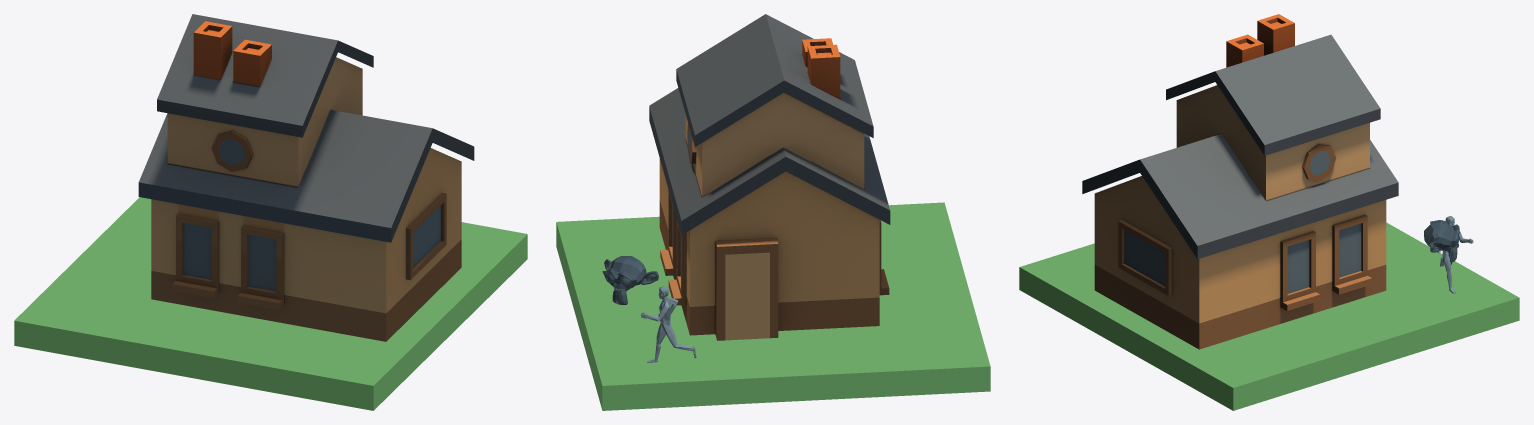
The picture shows the model from 3 angles, left to right: view 1: azimuth 30°, elevation 25°; view 2: azimuth 150°, elevation 25°; view 3: azimuth 270°, elevation 25°; orthographic projection. The views are drawn at different scales.
Visible parts, largest first — view 1: group1502195547.002; view 2: group1502195547.002, Suzanne; view 3: group1502195547.002, Suzanne.
Part boxes in pixels (left/top/right/bottom): group1502195547.002: left=14, top=14, right=527, bottom=410; group1502195547.002: left=556, top=14, right=990, bottom=410; Suzanne: left=602, top=256, right=658, bottom=304; group1502195547.002: left=1019, top=14, right=1519, bottom=410; Suzanne: left=1424, top=220, right=1459, bottom=262.
Bounding box in the file's own units: 23.82 × 13.62 × 23.82.
4 materials, 1 textured.
